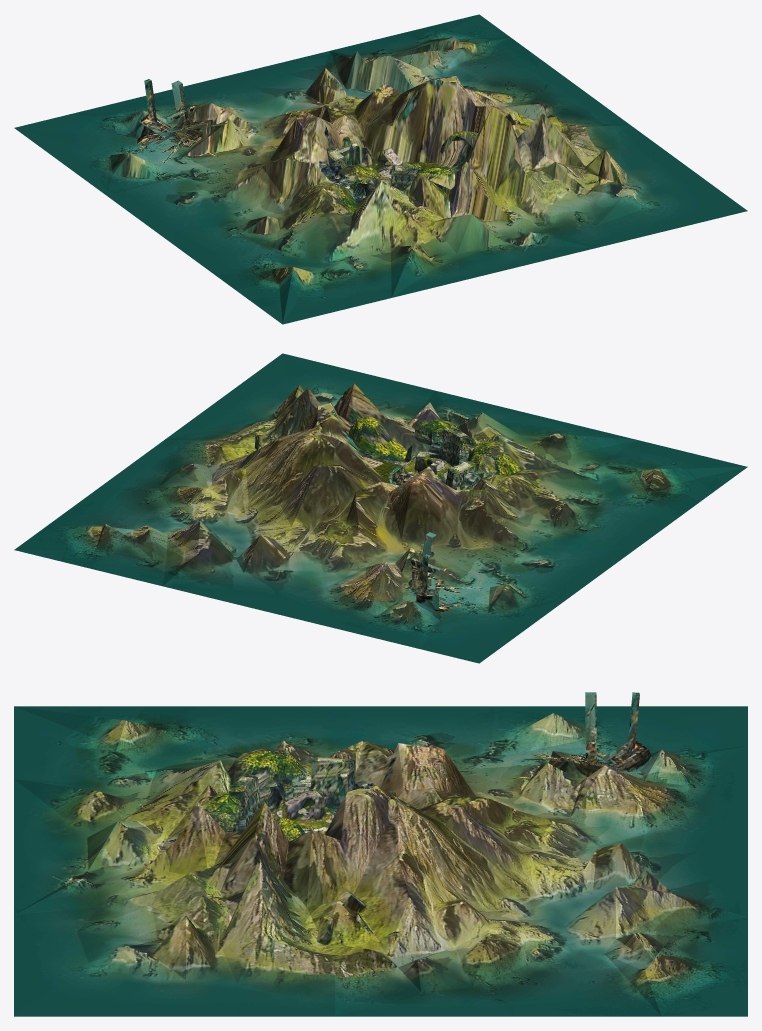
File: F_EventIsland_02.fbx
3 views of the same model, one above another, from view 1: azimuth 30°, elevation 25°; view 2: azimuth 150°, elevation 25°; view 3: azimuth 270°, elevation 25° (orthographic). The views are drawn at different scales.
Parts seen in each view (by area): view 1: E_Island_02; view 2: E_Island_02; view 3: E_Island_02.
Part boxes in pixels (box(x1,y1,x2,y2)): E_Island_02: box(14, 14, 747, 324); E_Island_02: box(14, 353, 747, 663); E_Island_02: box(14, 692, 747, 1016).
Size of the model in its own units: 6 by 1.17 by 6.
Materials: 1 (1 with a texture image).
